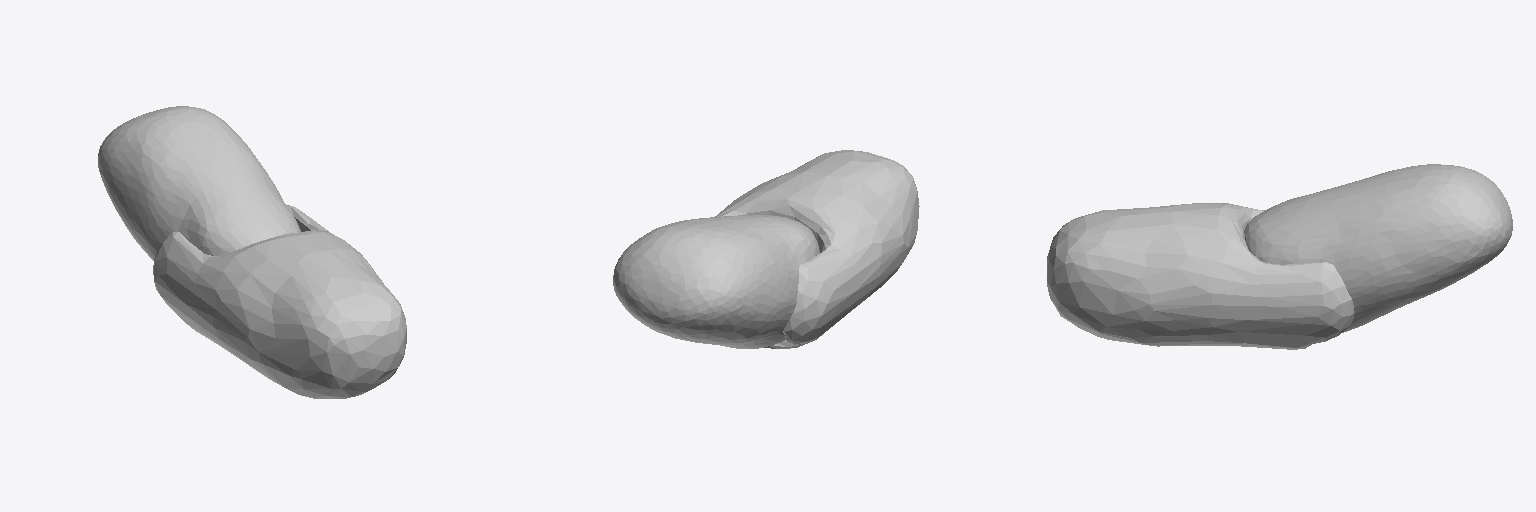
File: seg_thumb_tip_mirrored.obj
The picture shows the model from 3 angles: view 1: azimuth 30°, elevation 25°; view 2: azimuth 150°, elevation 25°; view 3: azimuth 270°, elevation 25°; orthographic projection.
Bounding box in the file's own units: 18.28 × 18.3 × 47.07.